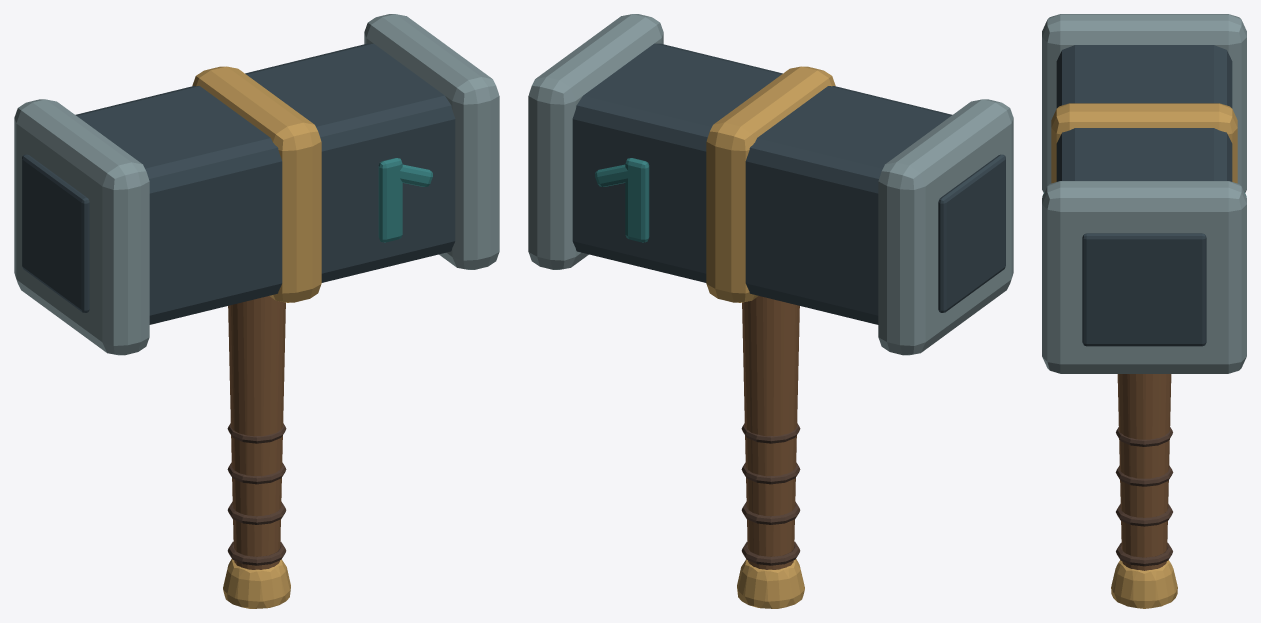
The model's file is weapon_hammer.glb.
3 renders of one model, left to right at view 1: azimuth 30°, elevation 25°; view 2: azimuth 150°, elevation 25°; view 3: azimuth 270°, elevation 25°, orthographic. The views are drawn at different scales.
Visible parts, largest first — view 1: ForgedHead.001, StrikingFace.001, GoldCollar.001, AshHandle.001, TealRune.001, LeatherGrip.001; view 2: ForgedHead.001, StrikingFace.001, GoldCollar.001, AshHandle.001, TealRune.001, LeatherGrip.001; view 3: StrikingFace.001, ForgedHead.001, AshHandle.001, GoldCollar.001, LeatherGrip.001.
Part boxes in pixels (left/top/right/bottom): ForgedHead.001: left=22, top=43, right=455, bottom=324; StrikingFace.001: left=14, top=14, right=499, bottom=355; GoldCollar.001: left=192, top=66, right=321, bottom=608; AshHandle.001: left=228, top=296, right=285, bottom=569; TealRune.001: left=378, top=158, right=432, bottom=242; LeatherGrip.001: left=227, top=423, right=286, bottom=565; ForgedHead.001: left=572, top=43, right=1005, bottom=324; StrikingFace.001: left=528, top=14, right=1013, bottom=355; GoldCollar.001: left=706, top=66, right=835, bottom=608; AshHandle.001: left=742, top=296, right=799, bottom=569; TealRune.001: left=595, top=158, right=649, bottom=242; LeatherGrip.001: left=741, top=423, right=800, bottom=565; StrikingFace.001: left=1042, top=14, right=1246, bottom=373; ForgedHead.001: left=1056, top=45, right=1232, bottom=346; AshHandle.001: left=1117, top=374, right=1171, bottom=570; GoldCollar.001: left=1051, top=103, right=1237, bottom=608; LeatherGrip.001: left=1115, top=427, right=1173, bottom=566.
Bounding box in the file's own units: 0.633 × 0.75 × 0.28.
